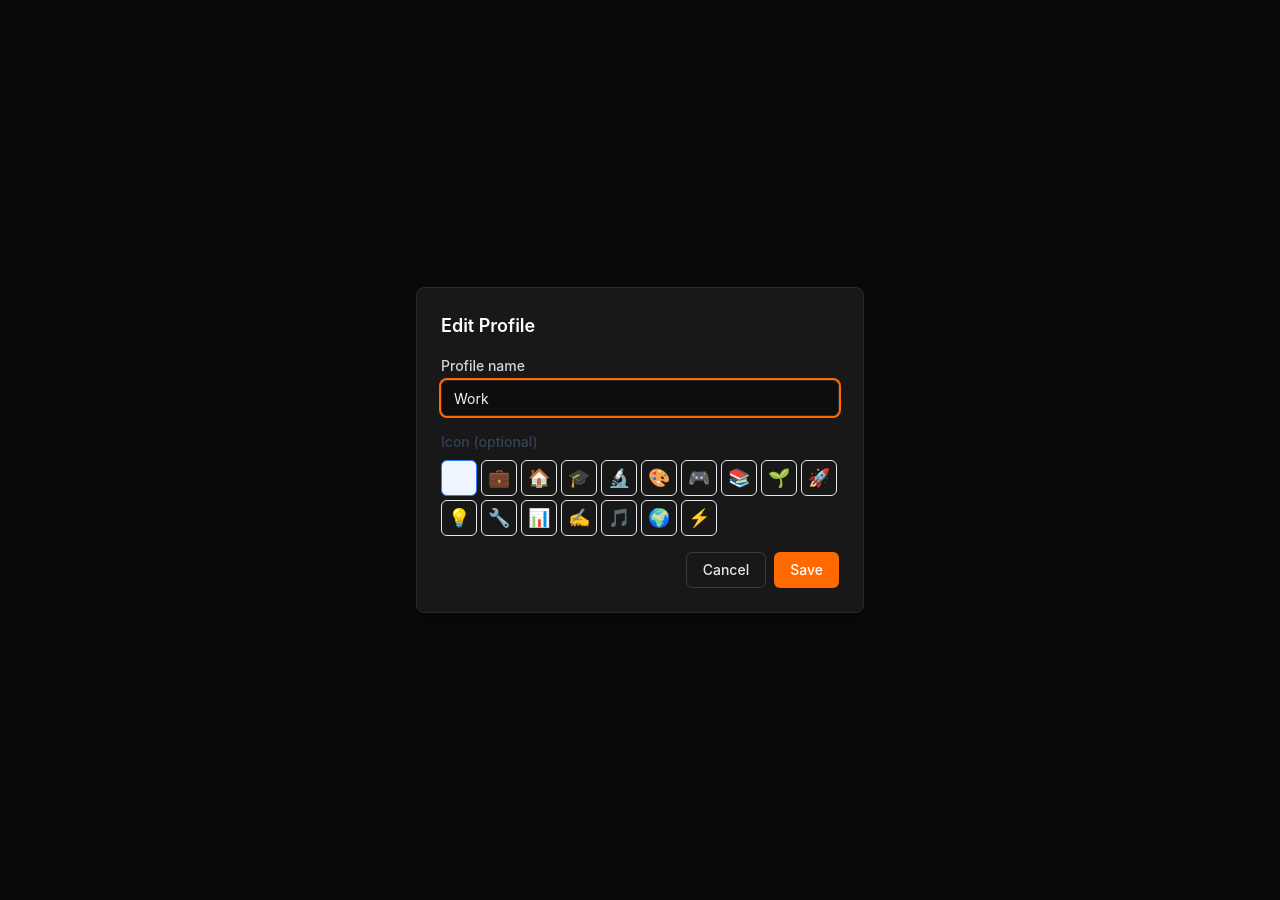
Test case: EditProfileDialog › shows validation error for empty name
Clear the field labelled "Profile name" at x=640, y=398, box [441,380,839,416]
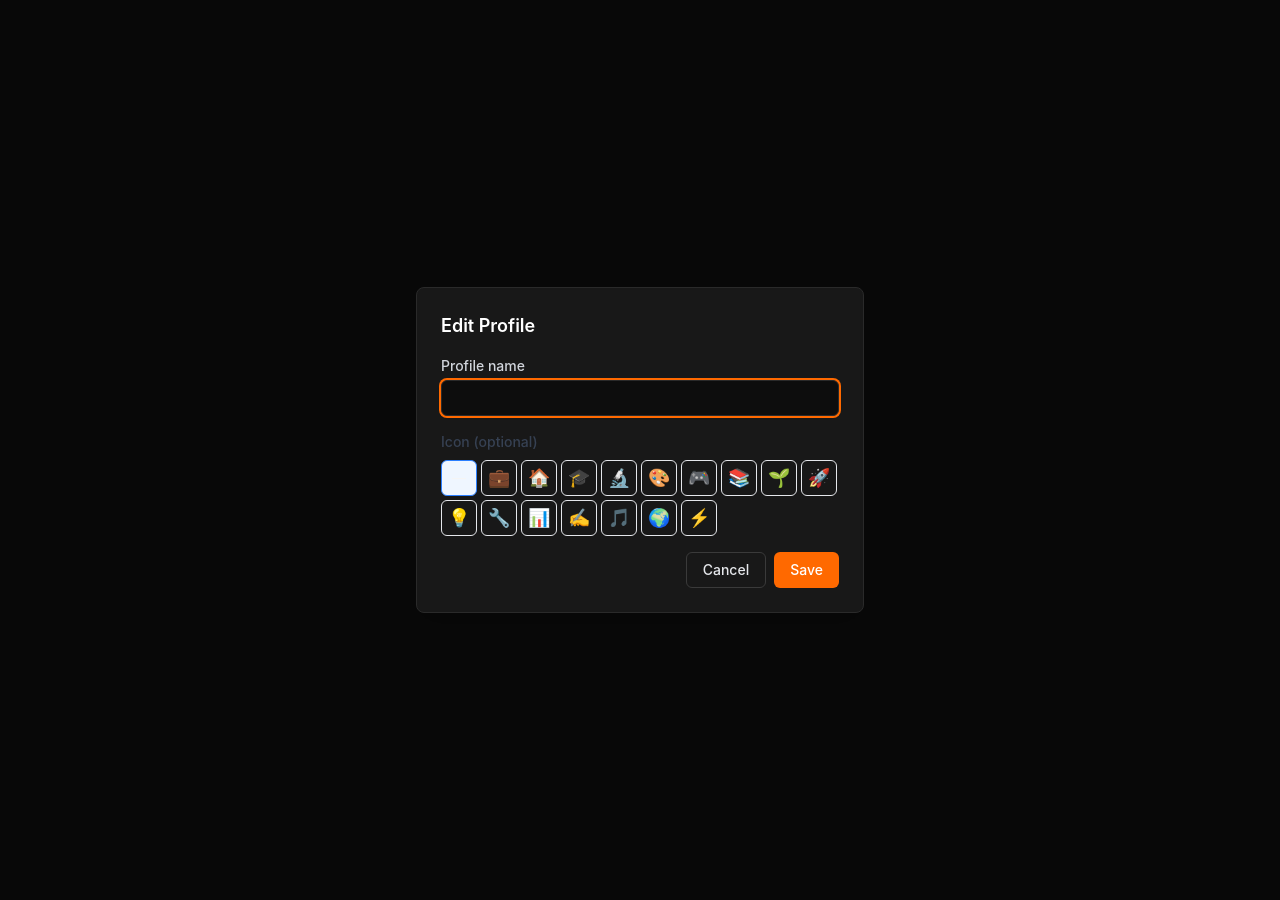
Click the button "Save" at x=807, y=570, box [774,552,839,588]
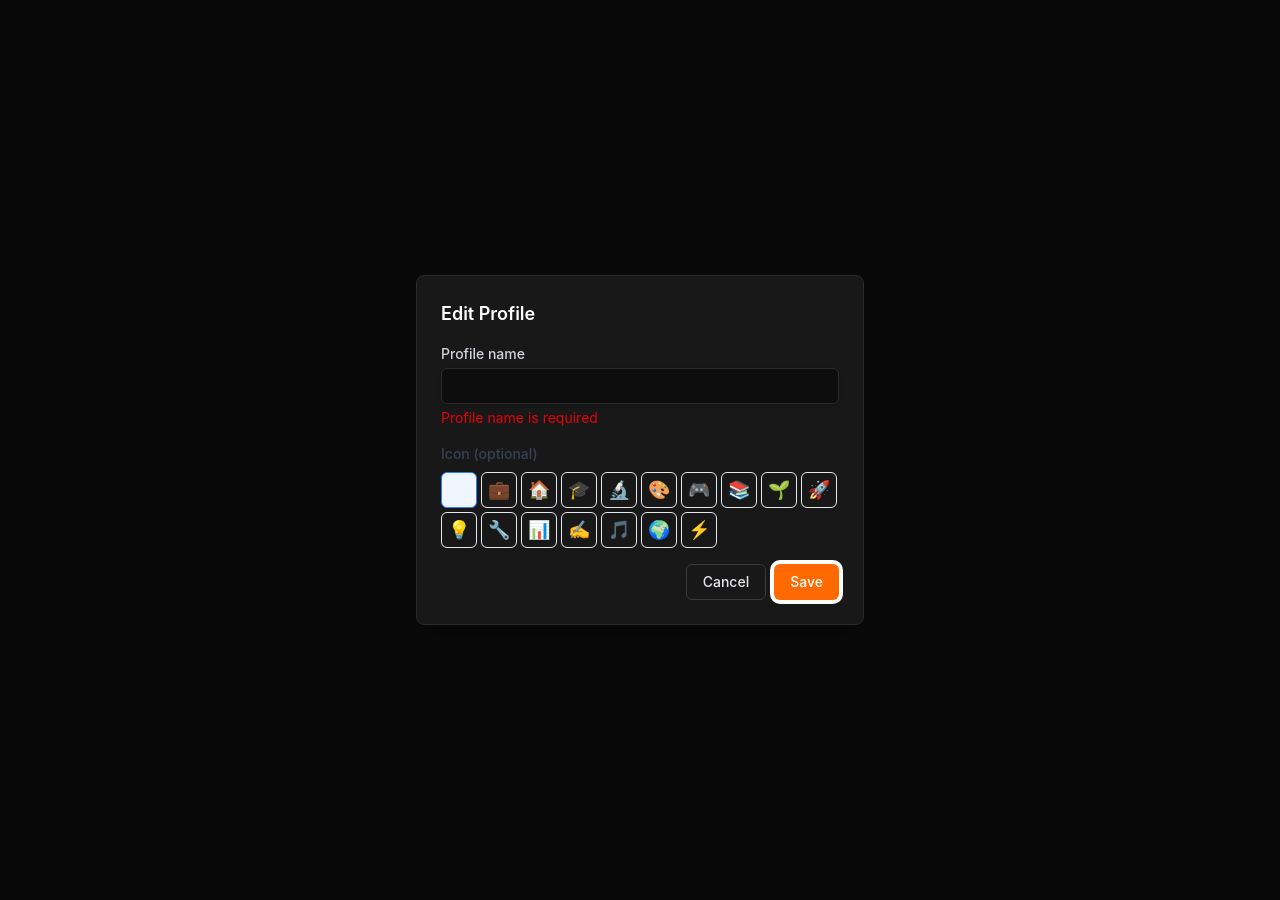
Expected: the message "Profile name is required" is shown, [441,409,598,426]
